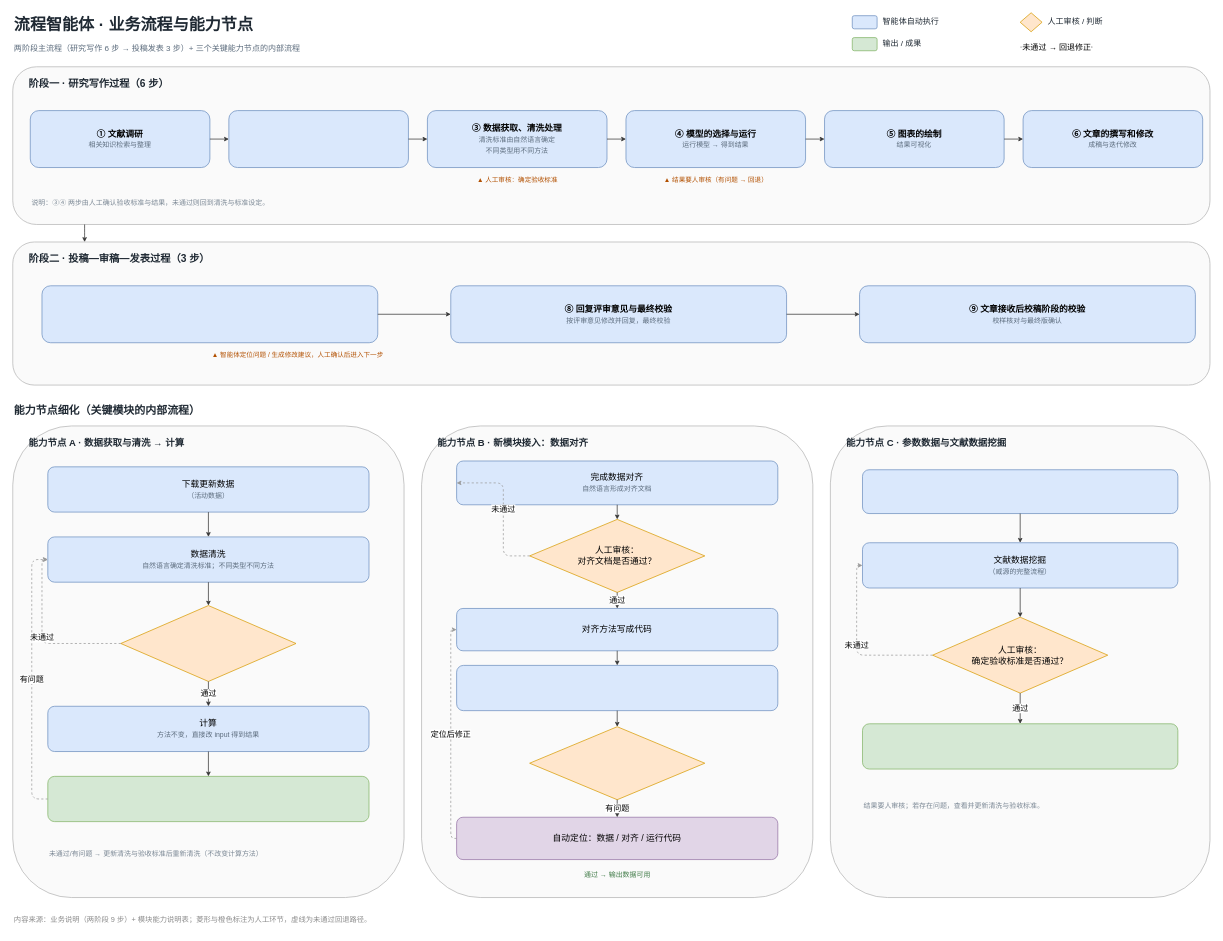
The diagram is 1223 pixels wide and 941 high, and some of its shapes have lost their labels. Here are the shapes that lost their labels. From the top down, the box of each, then its label:
(228, 110, 408, 168): ② 科学问题的凝练与提取 从文献中提炼研究问题
(41, 285, 378, 343): ⑦ 投稿前的全流程校验与投稿 研究过程（数据/代码/图表/稿件）校验后投稿
(862, 469, 1178, 514): 更新参数数据
(120, 605, 296, 681): 人工审核： 验收标准是否通过？
(456, 665, 778, 711): 运行计算 → 得到输出数据 （若有需求）绘图查看是否符合规律
(529, 726, 705, 800): 人工审核： 结果是否存在问题？
(862, 723, 1178, 769): 参数与文献数据更新完成（输出）
(47, 776, 369, 822): 输出数据（结果要人审核）
